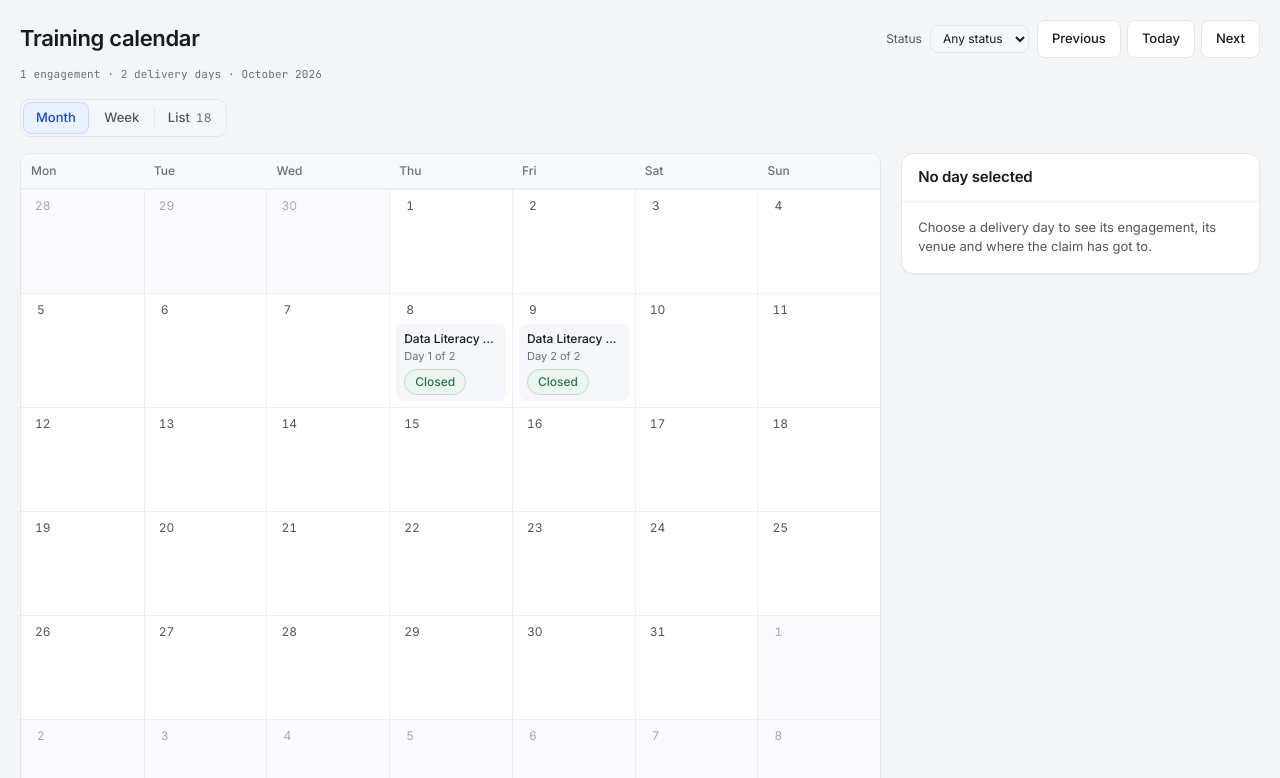
M-none · the training calendar › lists every delivery day when the grid is exchanged for the list
Click the tab "List 18": point(190, 118) 155,102 -> 224,134
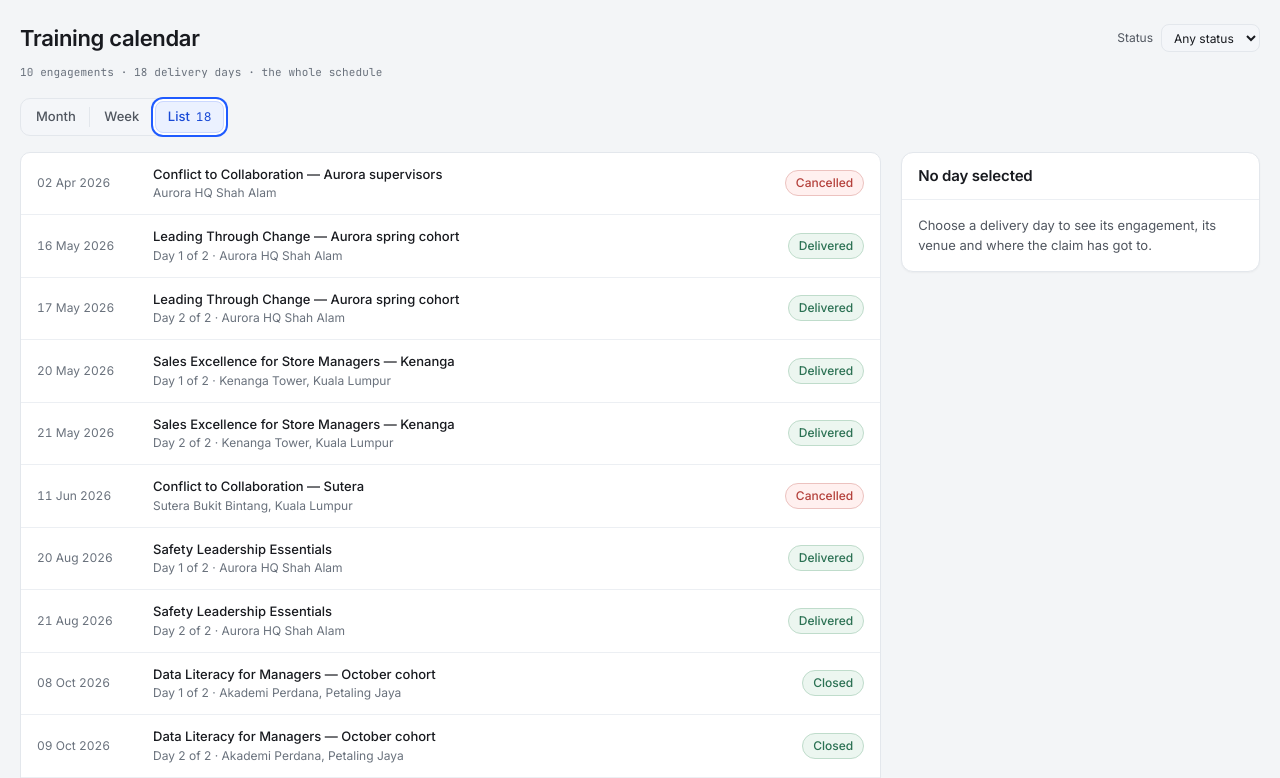
Check: the 1st text "Sales Excellence for Store Managers — Kenanga" is shown, box 153,353 -> 455,369
